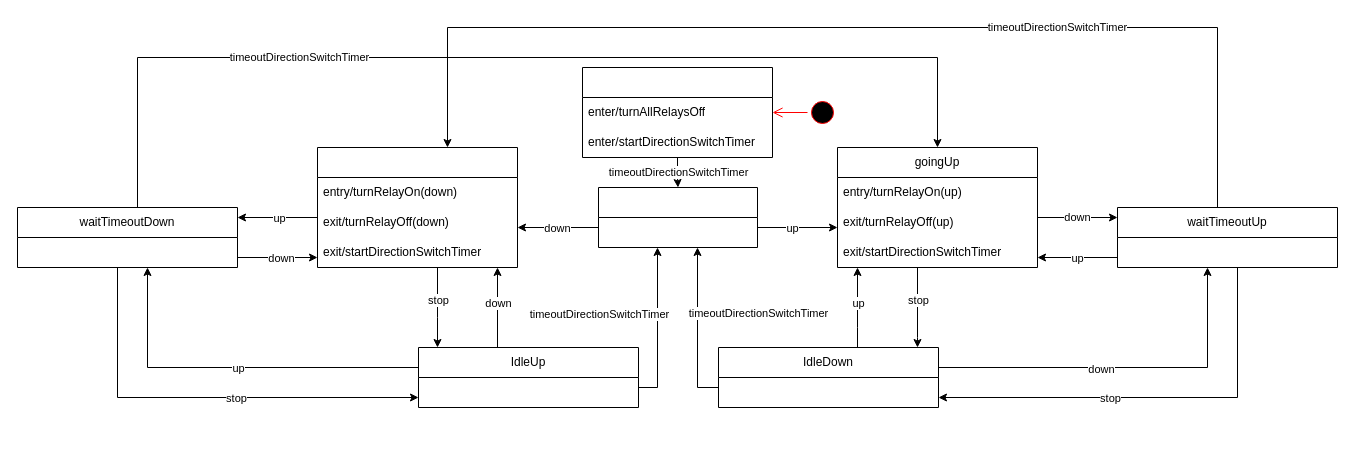
Some shapes in this 1355 by 454 pixel diagram are drawn without their labels. Here are the shapes that lost their labels. From the top down, the box of each, then its label:
(582, 66, 772, 158): Unknown
(316, 146, 518, 268): goingDown
(598, 186, 758, 248): IdleMot
